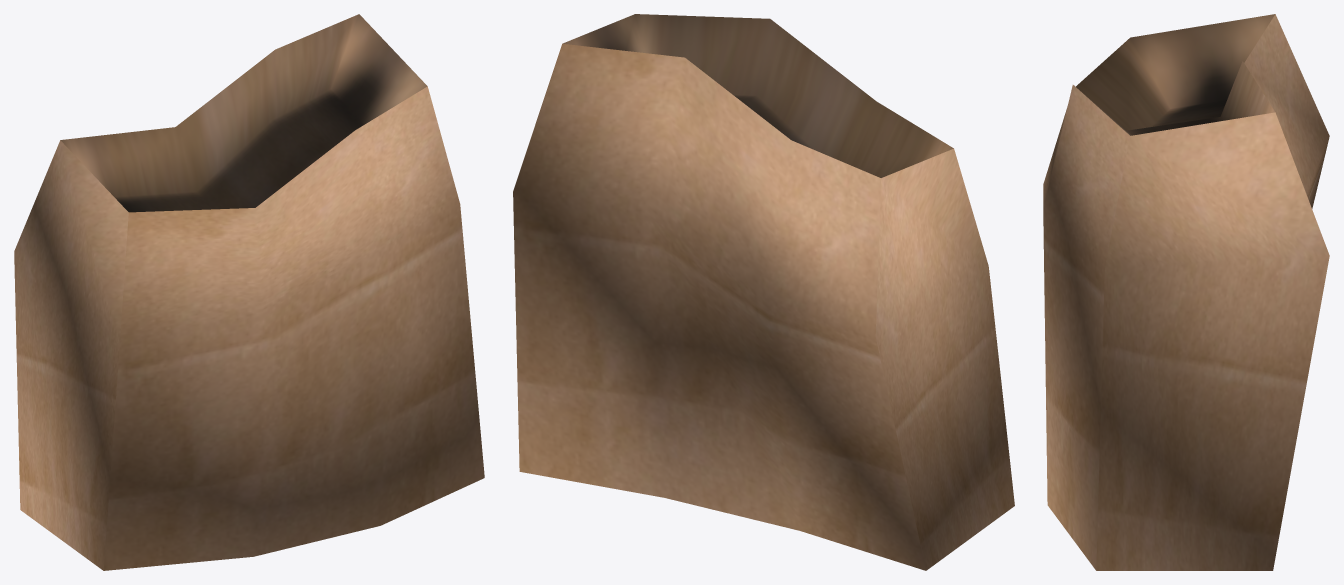
The model's file is paper_bag_2.glb.
The picture shows the model from 3 angles, left to right: view 1: azimuth 30°, elevation 25°; view 2: azimuth 150°, elevation 25°; view 3: azimuth 270°, elevation 25°; orthographic projection. The views are drawn at different scales.
Parts seen in each view (by area): view 1: Paper_Bag_2; view 2: Paper_Bag_2; view 3: Paper_Bag_2.
Boxes of the visible parts, x1,y1,x2,y2 form: Paper_Bag_2: [14, 14, 484, 570]; Paper_Bag_2: [513, 14, 1014, 570]; Paper_Bag_2: [1043, 14, 1329, 570].
Size of the model in its own units: 0.5036 by 0.5204 by 0.309.
1 material, 1 textured.
